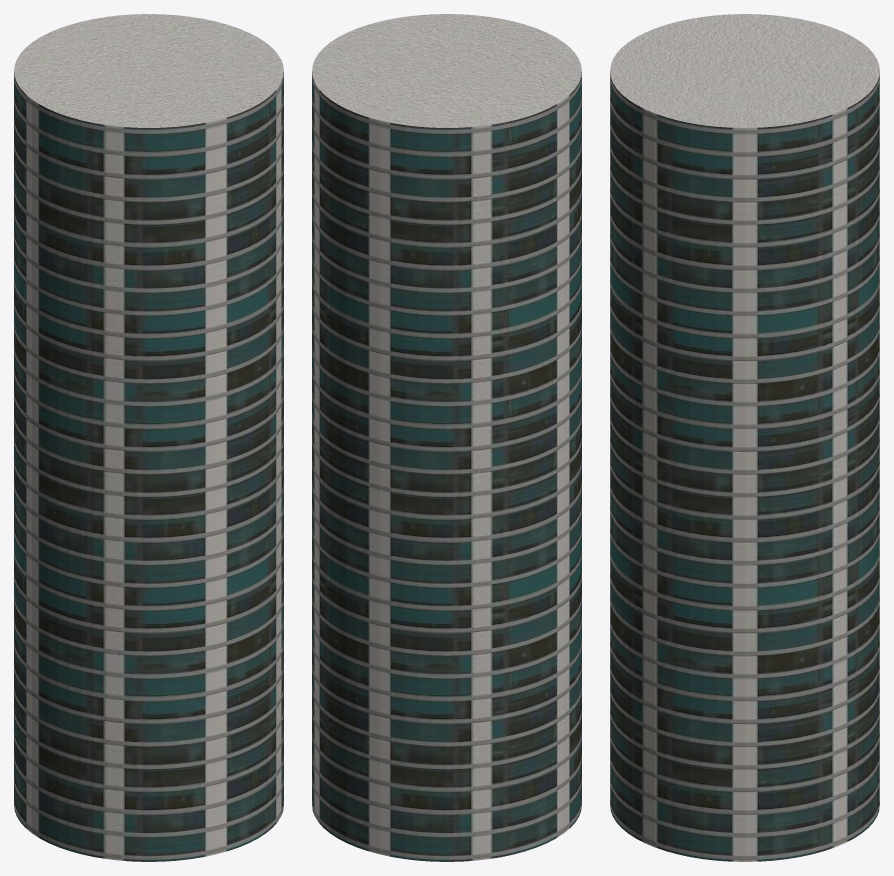
The model's file is Building 9.fbx.
3 views of the same model, side by side, from view 1: azimuth 30°, elevation 25°; view 2: azimuth 150°, elevation 25°; view 3: azimuth 270°, elevation 25° (orthographic).
Visible parts, largest first — view 1: Building 9; view 2: Building 9; view 3: Building 9.
Boxes of the visible parts, left/top/right/bottom form: Building 9: left=14, top=14, right=283, bottom=861; Building 9: left=312, top=14, right=581, bottom=861; Building 9: left=610, top=14, right=879, bottom=861.
Bounding box in the file's own units: 1500 × 4500 × 1500.
2 materials, 2 textured.
